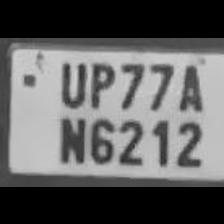1: (144, 112, 174, 166)
2: (170, 114, 204, 168), (114, 114, 144, 164)
6: (85, 113, 115, 164)
7: (143, 57, 173, 110), (114, 56, 144, 107)
A: (174, 61, 204, 112)
N: (52, 111, 86, 164)
P: (85, 56, 115, 107)
U: (54, 56, 88, 106)
